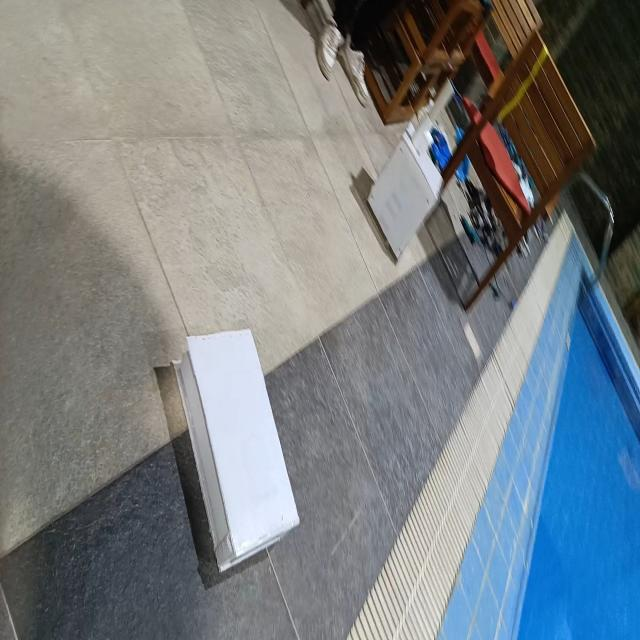Cube: (366, 130, 442, 261)
Cuboid: (172, 325, 300, 573)
